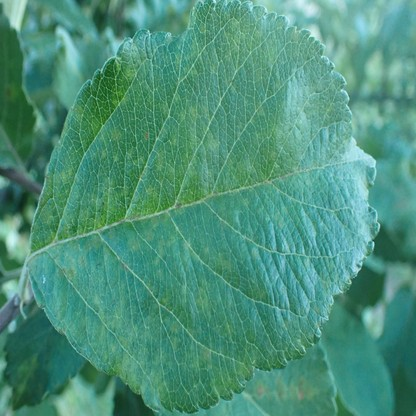scab: (26, 1, 350, 406), (255, 377, 323, 399)
